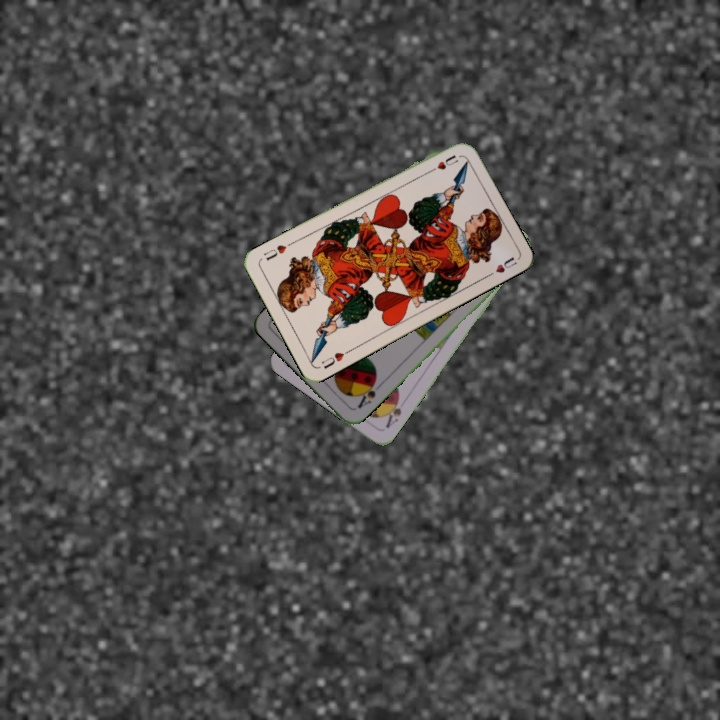HU: (317, 346, 353, 371), (424, 151, 461, 175)
SA: (353, 376, 379, 411), (381, 393, 404, 431)
